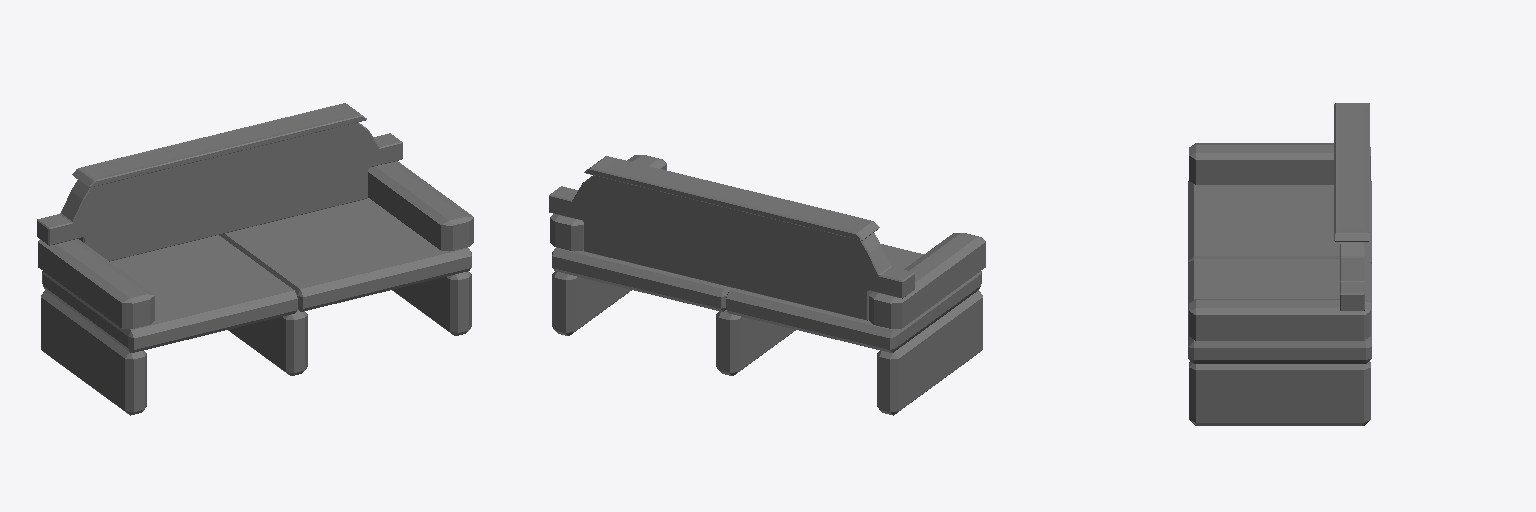
File: stoneBenchExport.obj
3 views of the same model, side by side, from view 1: azimuth 30°, elevation 25°; view 2: azimuth 150°, elevation 25°; view 3: azimuth 270°, elevation 25° (orthographic).
Parts seen in each view (by area): view 1: pCube17; view 2: pCube17; view 3: pCube17.
Boxes of the visible parts, <box> form: pCube17: <box>37,103,473,415</box>; pCube17: <box>549,155,985,415</box>; pCube17: <box>1188,103,1371,425</box>.
Size of the model in its own units: 16.03 by 7.59 by 7.2.